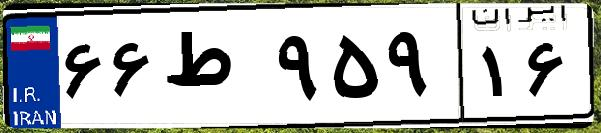1: (475, 38, 525, 113)
5: (330, 28, 385, 110)
6: (57, 26, 110, 100), (525, 38, 570, 115), (110, 28, 158, 98)
9: (270, 28, 330, 110), (385, 28, 445, 110)
ط: (158, 20, 270, 120)
